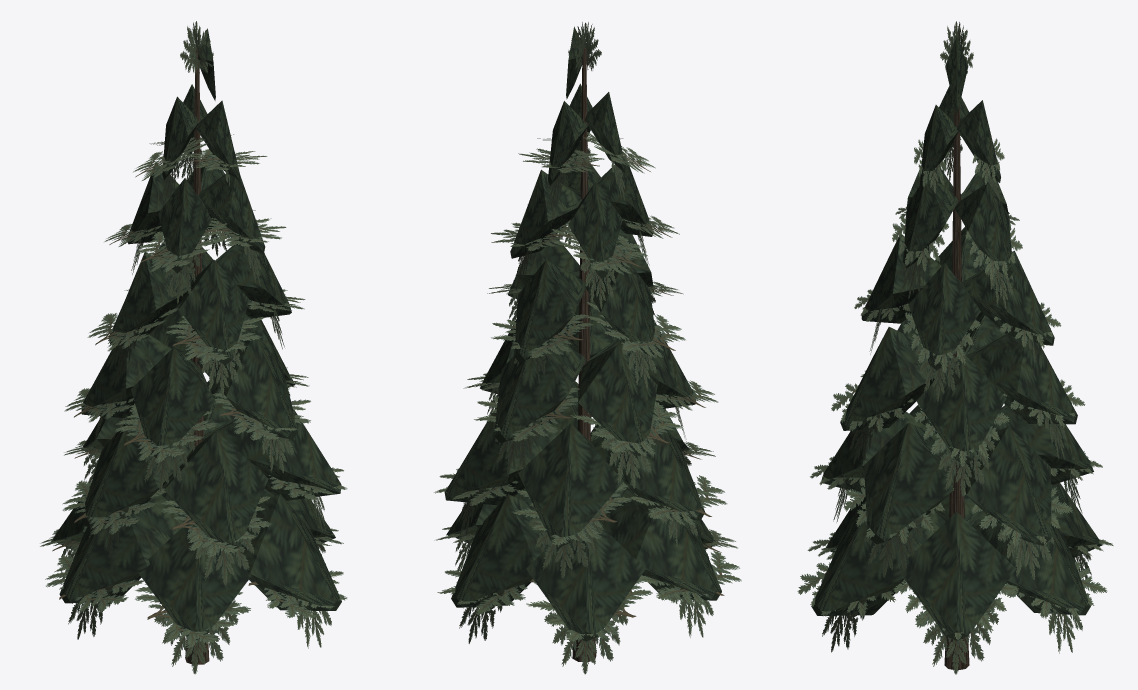
File: tree_03.glb
3 renders of one model, left to right at view 1: azimuth 30°, elevation 25°; view 2: azimuth 150°, elevation 25°; view 3: azimuth 270°, elevation 25°, orthographic.
Visible parts, largest first — view 1: outdoor_tree_03; view 2: outdoor_tree_03; view 3: outdoor_tree_03.
Part boxes in pixels (box(x1,y1,x2,y2)): outdoor_tree_03: box(40, 21, 347, 674); outdoor_tree_03: box(434, 22, 741, 674); outdoor_tree_03: box(797, 21, 1113, 674).
Size of the model in its own units: 3.2 by 6.8 by 3.2.
3 materials, 3 textured.
